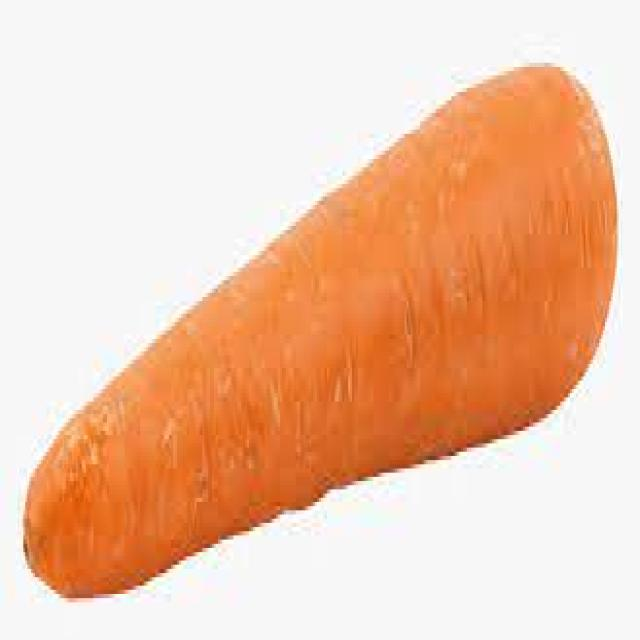carrot: (21, 59, 618, 598)
